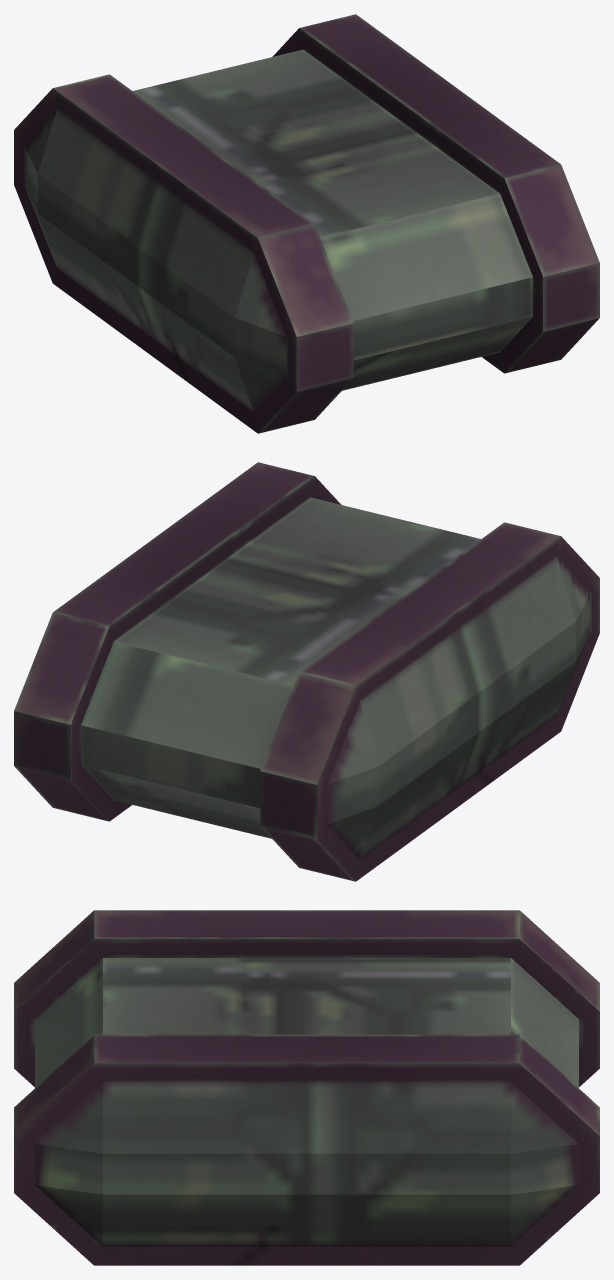
The model's file is enemy_tracks.obj.
3 renders of one model, top to bottom at view 1: azimuth 30°, elevation 25°; view 2: azimuth 150°, elevation 25°; view 3: azimuth 270°, elevation 25°, orthographic. The views are drawn at different scales.
Visible parts, largest first — view 1: beveled_cuboid; view 2: beveled_cuboid; view 3: beveled_cuboid.
Boxes of the visible parts, bbox=[...] form: beveled_cuboid: bbox=[14, 14, 599, 433]; beveled_cuboid: bbox=[14, 462, 599, 881]; beveled_cuboid: bbox=[14, 910, 599, 1265].
Size of the model in its own units: 1.12 by 0.6155 by 1.62.
Materials: 1 (1 with a texture image).
